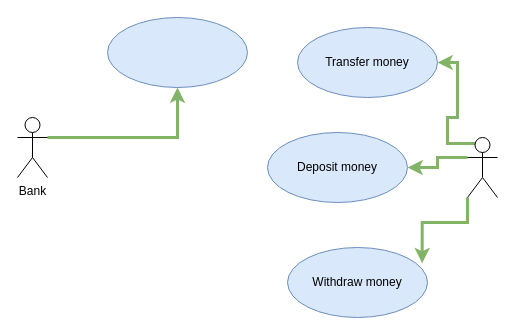
This 521x335 diagram has some shape labels left out. The shapes that lost their labels are listed below. From the top down, each one's box as (x1, y1, x2, y2) in pixels, then its label:
(106, 16, 248, 88): Register an account
(466, 136, 498, 198): Account
